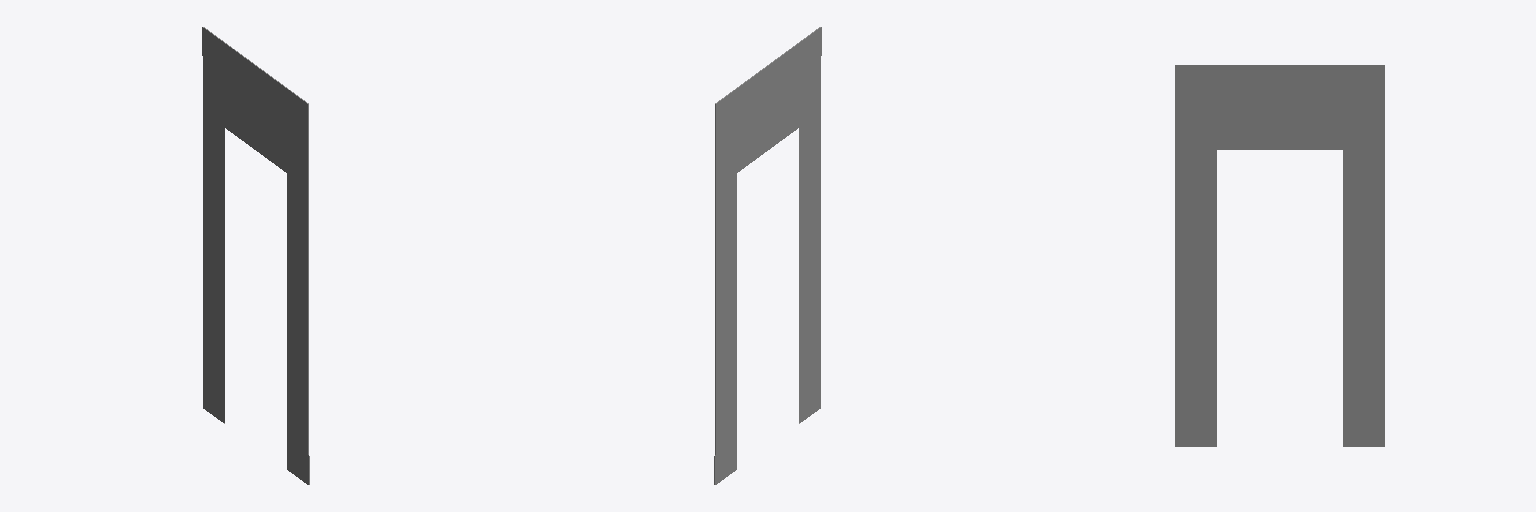
File: doorframe.obj
The picture shows the model from 3 angles: view 1: azimuth 30°, elevation 25°; view 2: azimuth 150°, elevation 25°; view 3: azimuth 270°, elevation 25°; orthographic projection.
Parts seen in each view (by area): view 1: Mesh_Plane; view 2: Mesh_Plane; view 3: Mesh_Plane.
Boxes of the visible parts, box(x1,y1,x2,y2) form: Mesh_Plane: box(202, 27, 309, 484); Mesh_Plane: box(714, 27, 821, 484); Mesh_Plane: box(1175, 65, 1384, 446).
Bounding box in the file's own units: 0.0197 × 4 × 2.